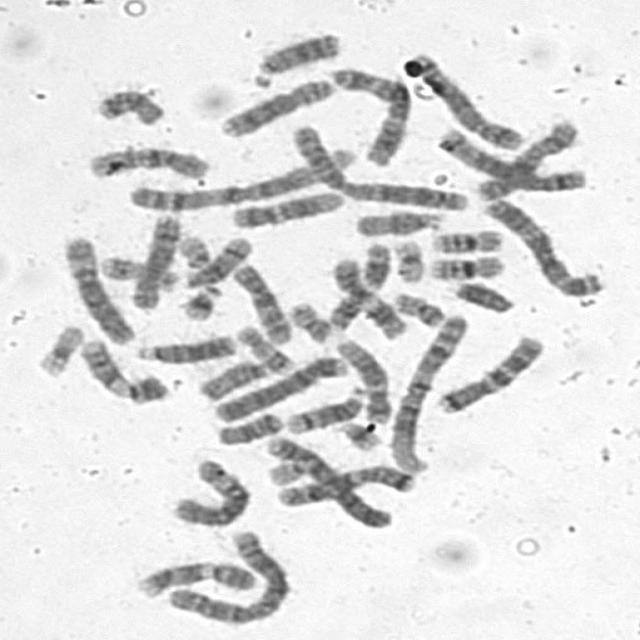A1: (116, 135, 362, 213), (381, 307, 472, 476)
A2: (280, 116, 471, 212), (159, 524, 292, 627)
A3: (475, 191, 606, 297), (322, 59, 413, 167)
B4: (257, 428, 398, 530), (204, 347, 353, 425)
B5: (402, 46, 529, 152), (430, 120, 588, 195)
C10: (224, 256, 294, 346), (79, 139, 212, 181)
C11: (323, 250, 408, 342), (319, 236, 392, 332)
C12: (330, 330, 394, 426), (223, 182, 348, 230)
C6: (54, 227, 138, 345), (162, 453, 253, 528)
C7: (427, 327, 547, 415), (269, 458, 422, 508)
C8: (211, 70, 338, 139), (123, 207, 185, 311)
C9: (72, 331, 170, 405), (128, 553, 263, 600)
D13: (243, 25, 343, 87), (127, 327, 239, 364)
D14: (278, 380, 371, 434), (176, 230, 256, 289)
D15: (190, 352, 274, 402), (347, 202, 448, 238)
E16: (419, 246, 508, 282), (423, 222, 506, 255)
E17: (228, 317, 298, 376), (90, 248, 180, 292)
E18: (86, 81, 168, 127), (208, 404, 287, 446)
F19: (28, 317, 86, 379), (385, 232, 427, 284)
F20: (384, 284, 448, 328), (281, 294, 333, 344)
G21: (173, 277, 224, 323), (330, 414, 384, 452)
G22: (169, 227, 214, 270), (258, 452, 312, 486)
X: (468, 114, 582, 202)
Y: (446, 273, 518, 315)
